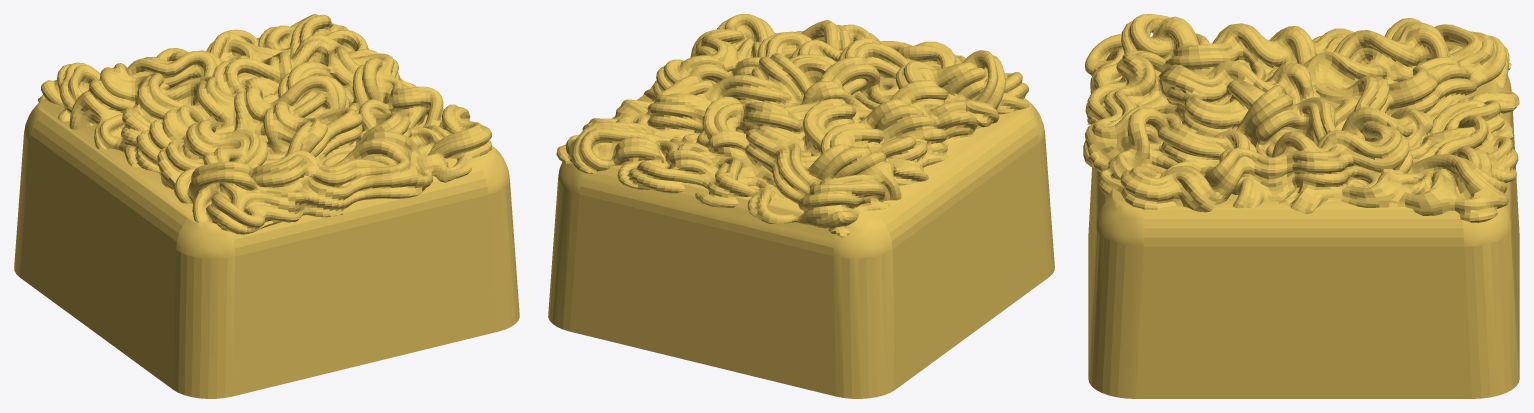
File: keycap_Noodles.glb
The picture shows the model from 3 angles, left to right: view 1: azimuth 30°, elevation 25°; view 2: azimuth 150°, elevation 25°; view 3: azimuth 270°, elevation 25°; orthographic projection. The views are drawn at different scales.
Visible parts, largest first — view 1: keycap_oreo; view 2: keycap_oreo; view 3: keycap_oreo.
Part boxes in pixels (box(x1,y1,x2,y2)): keycap_oreo: box(14, 14, 519, 398); keycap_oreo: box(548, 14, 1054, 398); keycap_oreo: box(1083, 14, 1519, 398).
Bounding box in the file's own units: 16.23 × 9.9 × 16.42.
